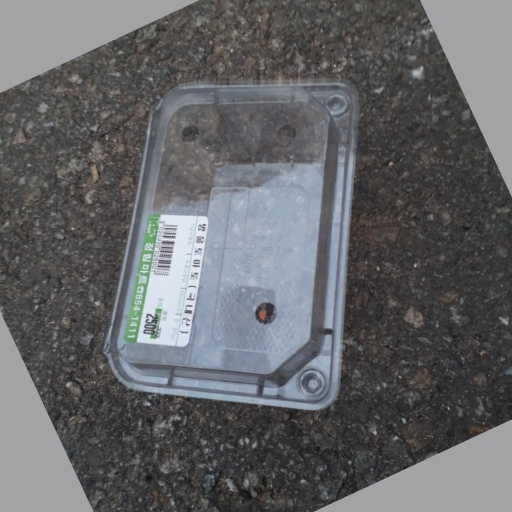Plastic_4: (106, 79, 360, 409)
